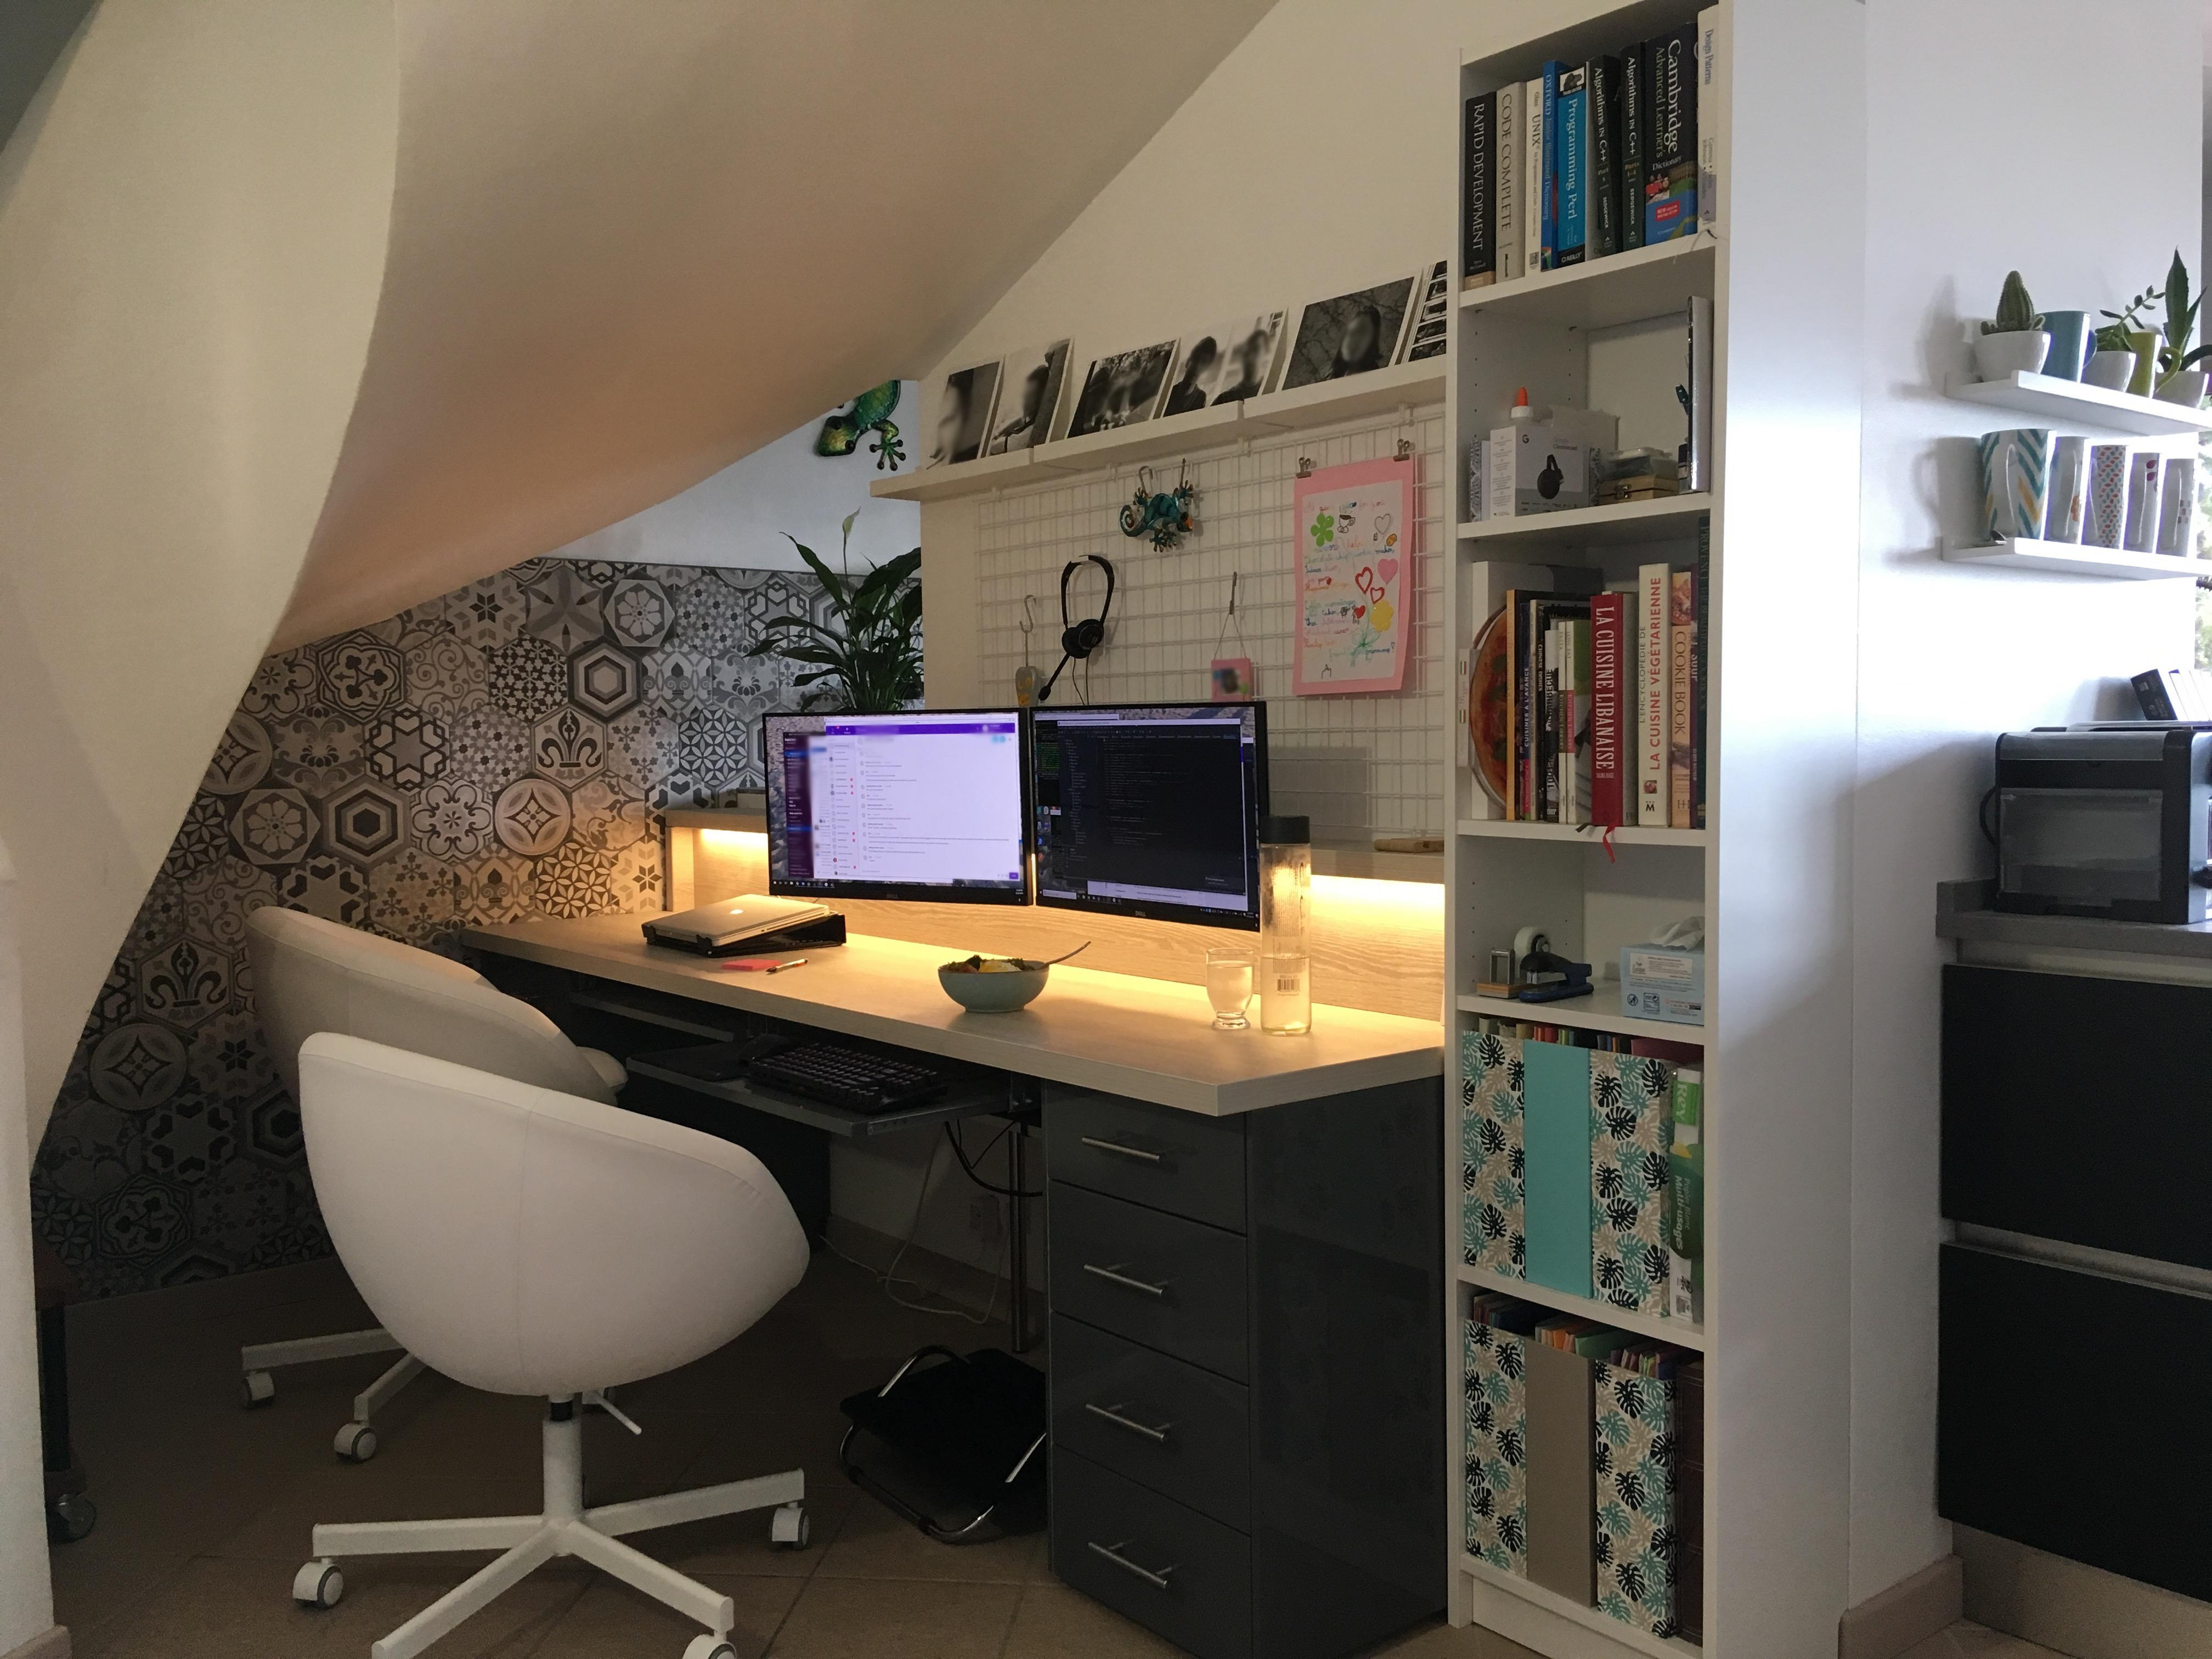Chair (Generic): (277, 1035, 815, 1567), (200, 896, 683, 1481)
Cup: (1204, 943, 1254, 1039)
Decoration (Generic): (1287, 457, 1416, 695), (1200, 568, 1259, 704), (1120, 477, 1197, 556), (1005, 592, 1043, 714)
Decoration (Picture): (1280, 267, 1421, 392), (1162, 305, 1289, 423), (1062, 338, 1176, 437), (991, 336, 1071, 450), (934, 364, 988, 467)
Desk (Generic): (470, 814, 1449, 1659)
Drink Coaster: (1371, 828, 1451, 854)
Footrest: (829, 1338, 1087, 1546)
Headphones (with Microphone): (1038, 554, 1115, 701)
Keyboard (Generic): (747, 1035, 949, 1117)
Laptop (OSX): (639, 889, 829, 950)
Laptop Stand: (643, 913, 848, 957)
Monitor (Landscape): (1026, 702, 1280, 936), (756, 709, 1035, 911)
Mouse (Generic): (738, 1030, 799, 1063)
Mousepad (Generic): (631, 1030, 808, 1084)
Post-it Note: (721, 953, 786, 978)
Storage Drawer: (1031, 1046, 1442, 1659)
Water Bottle: (1249, 814, 1315, 1039)
